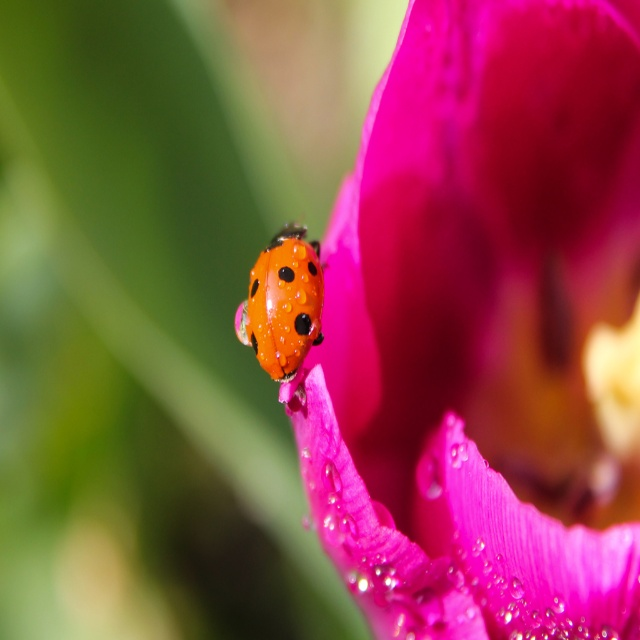Ladybug: (245, 220, 329, 382)
